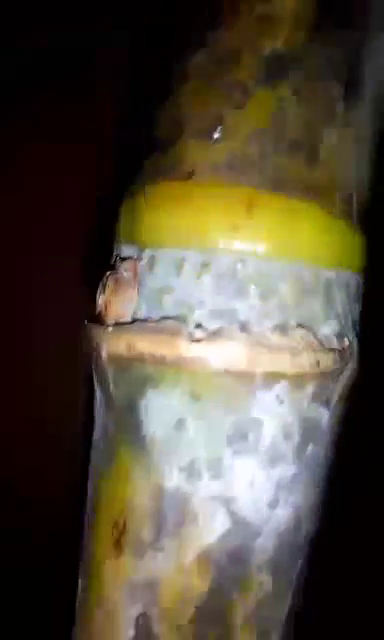cane eye: (92, 259, 144, 335)
